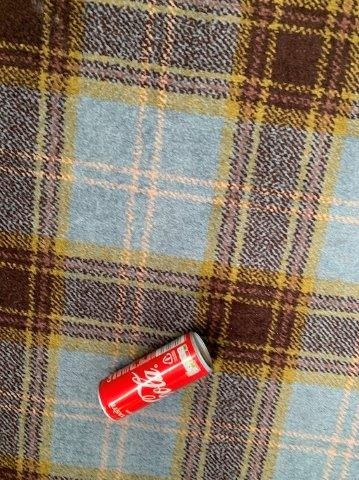kaleng: (99, 333, 212, 418)
